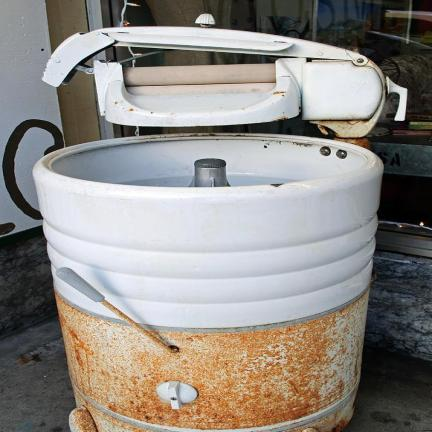besi_tidak_karat: (34, 135, 382, 328)
karat: (58, 291, 368, 430)
